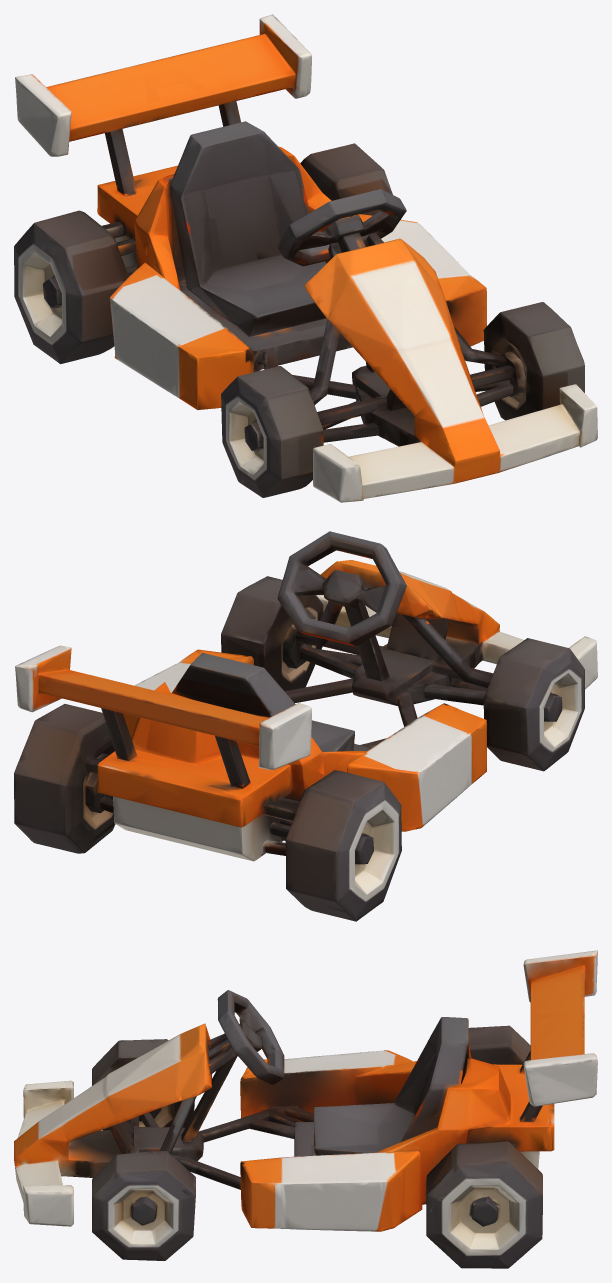
The model's file is car9.fbx.
3 renders of one model, top to bottom at view 1: azimuth 30°, elevation 25°; view 2: azimuth 150°, elevation 25°; view 3: azimuth 270°, elevation 25°, orthographic. The views are drawn at different scales.
Parts seen in each view (by area): view 1: node_0; view 2: node_0; view 3: node_0.
Boxes of the visible parts, bbox=[...] form: node_0: bbox=[14, 14, 597, 502]; node_0: bbox=[14, 531, 597, 921]; node_0: bbox=[14, 950, 597, 1268].
Size of the model in its own units: 60.04 by 39.24 by 104.
